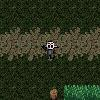Jason: (41, 38, 59, 61)
Obstacle: (43, 84, 64, 100)
Slow: (64, 84, 100, 100)
